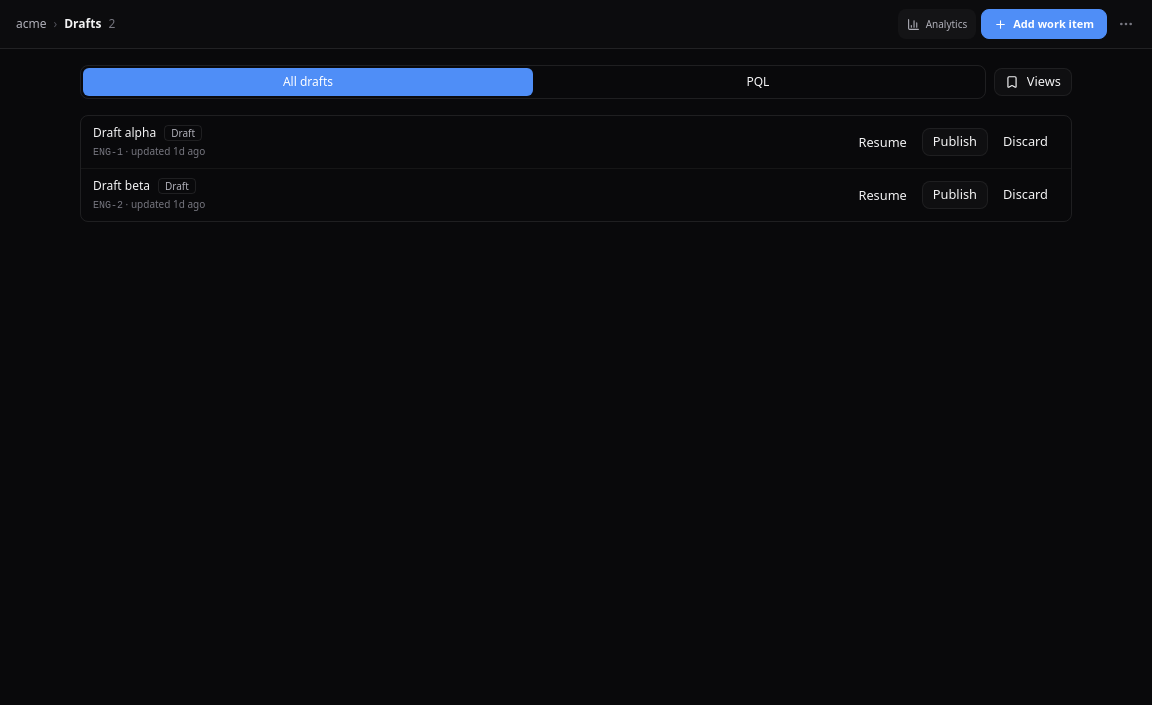
it: drafts saved views (C111T4) › applying a PQL view enters PQL mode with the view's query applied and published issues never shown
The image size is (1152, 705).
Expected: the link "Draft alpha" is shown, [93,124,156,142]
Expected: the link "Draft beta" is shown, [93,177,150,195]
Click the button with aria-label "Saved views": (1033, 82) [994,68,1072,96]
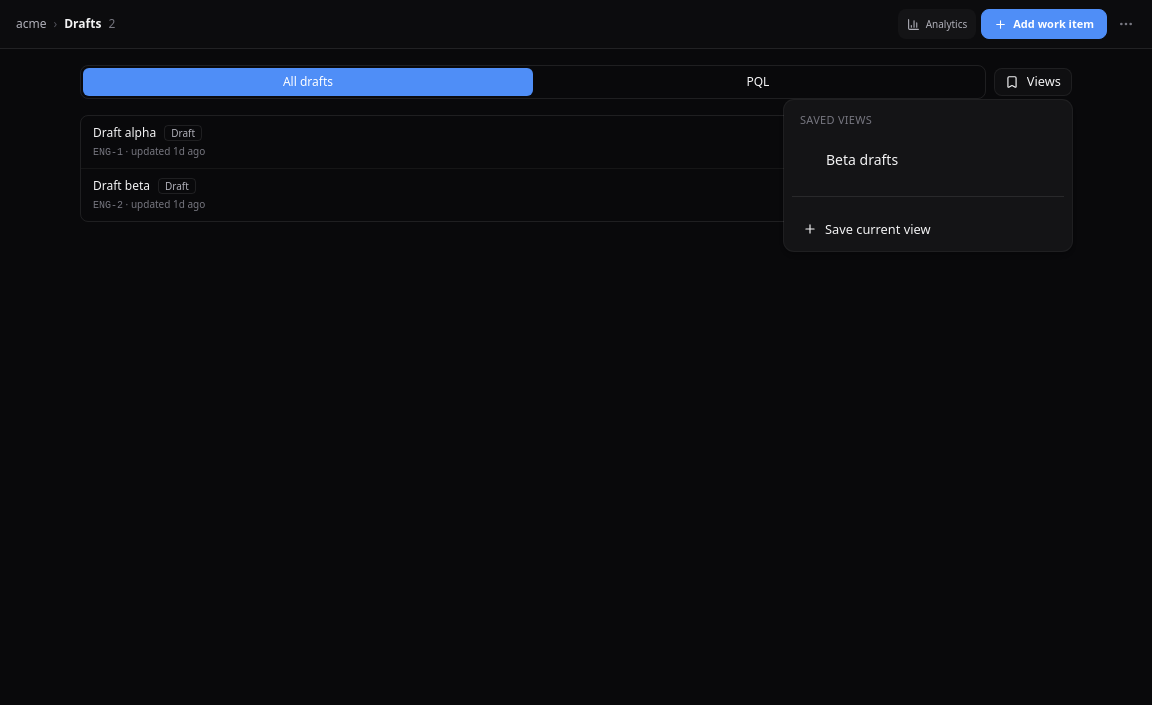
Expected: the button "Save current view" is shown, [792,215,1064,243]
Click the button titled "Apply view “Beta drafts”": (868, 160) [796,144,940,176]
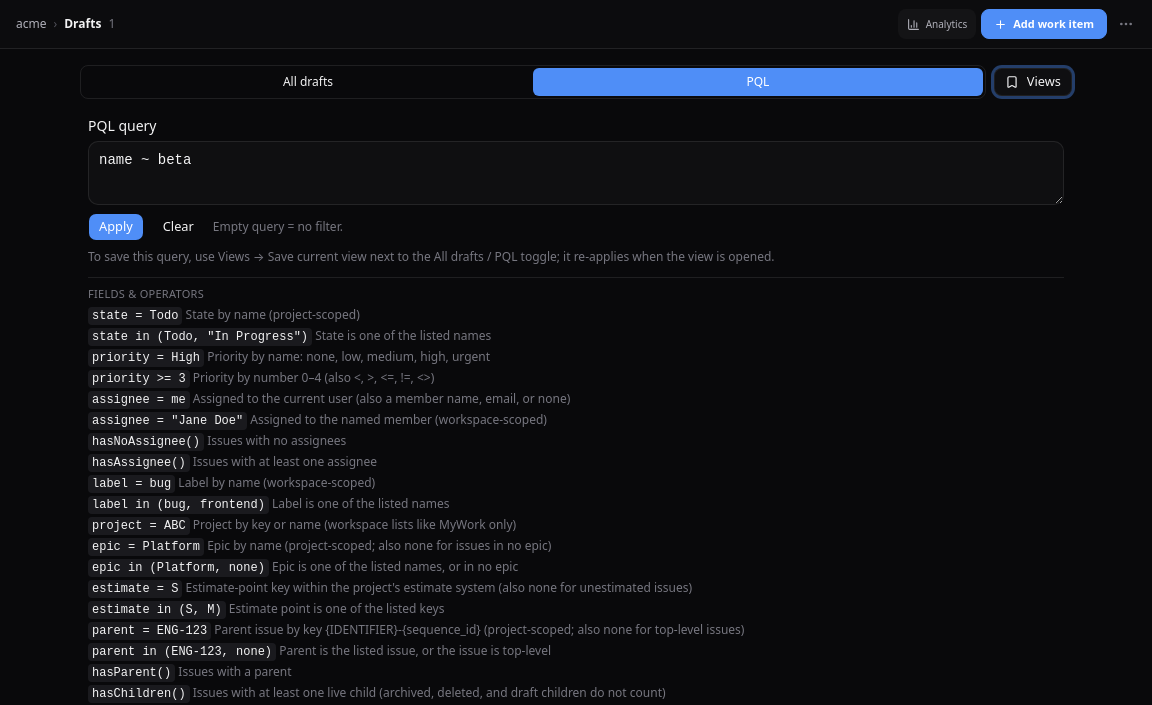
Expected: the link "Draft alpha" is gone
Expected: the text box labelled "PQL query" holds "name ~ beta", [88,141,1064,205]
